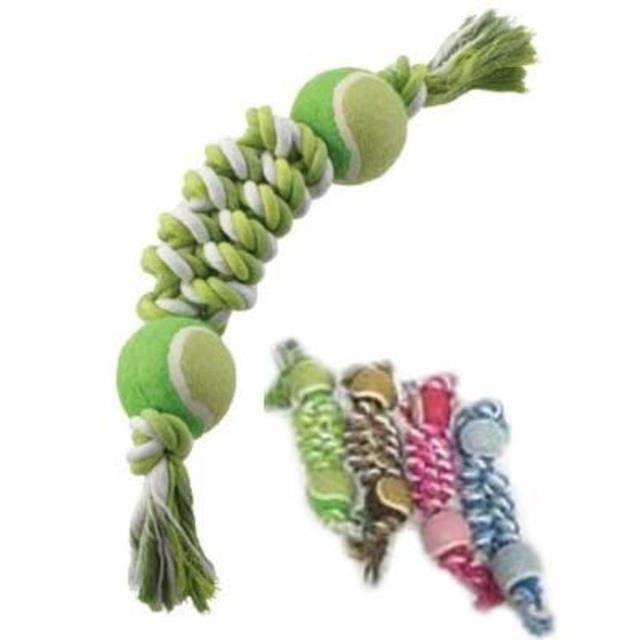Tennis ball: (118, 316, 236, 442), (290, 64, 412, 182)
